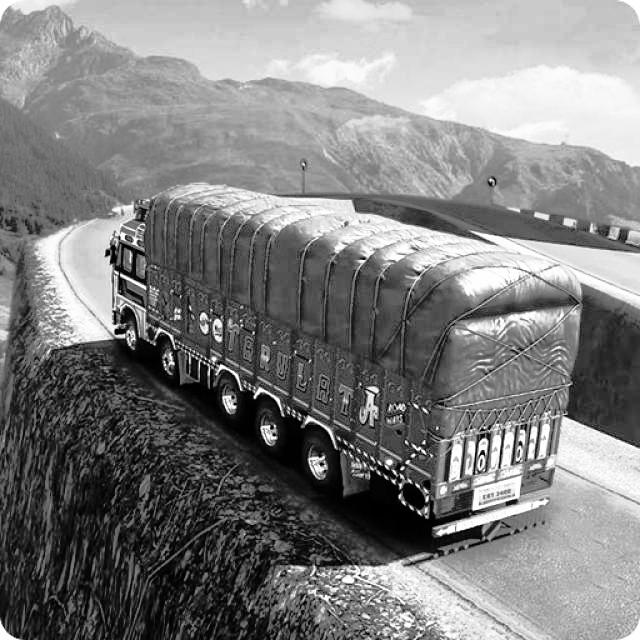HCV: (104, 132, 606, 566)
